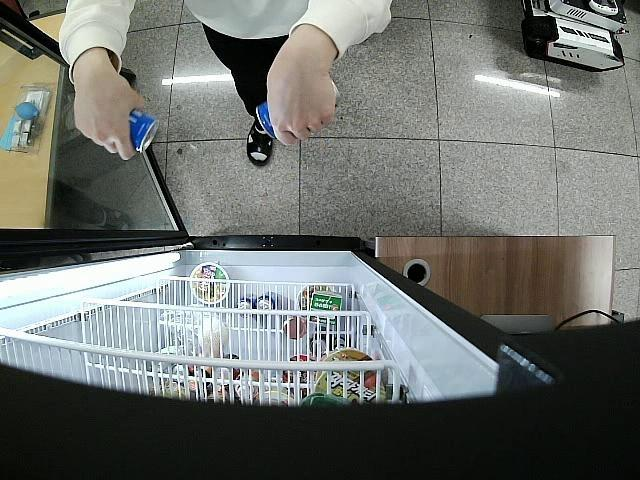15_letsbe: (256, 77, 340, 140), (130, 110, 160, 154)
